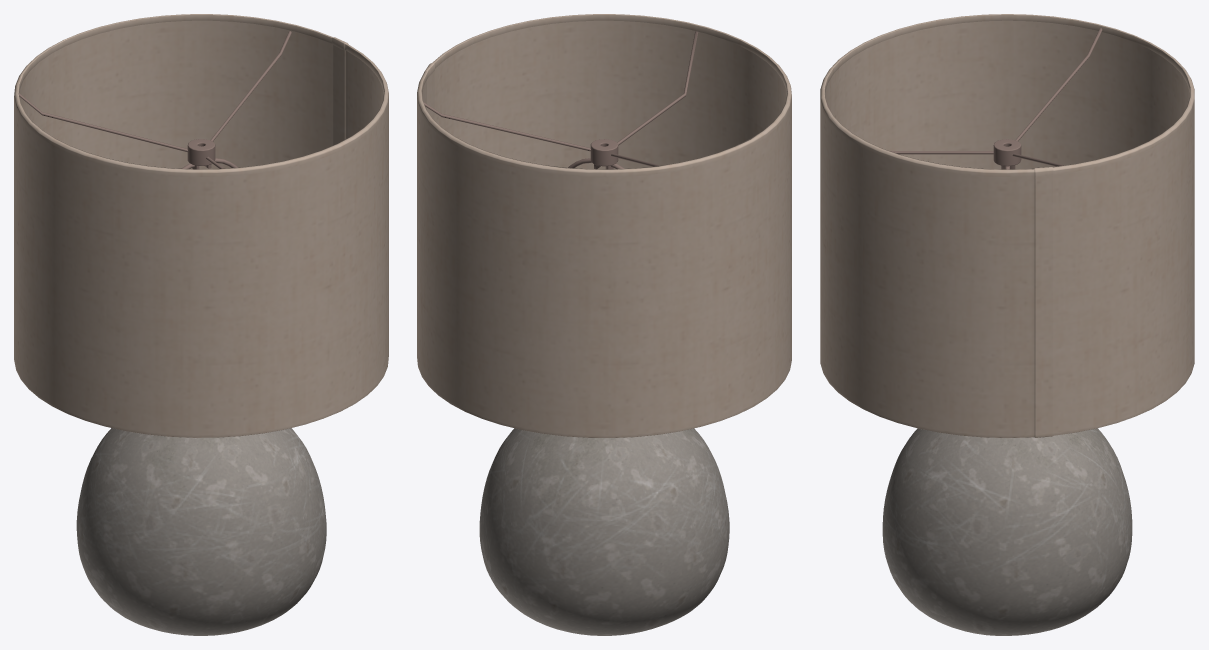
The picture shows the model from 3 angles, left to right: view 1: azimuth 30°, elevation 25°; view 2: azimuth 150°, elevation 25°; view 3: azimuth 270°, elevation 25°; orthographic projection.
Parts seen in each view (by area): view 1: RootNode; view 2: RootNode; view 3: RootNode.
Boxes of the visible parts, bbox=[...] form: RootNode: bbox=[14, 14, 388, 635]; RootNode: bbox=[417, 14, 791, 635]; RootNode: bbox=[820, 14, 1194, 635].
Size of the model in its own units: 0.2669 by 0.406 by 0.2664.
1 material, 1 textured.
